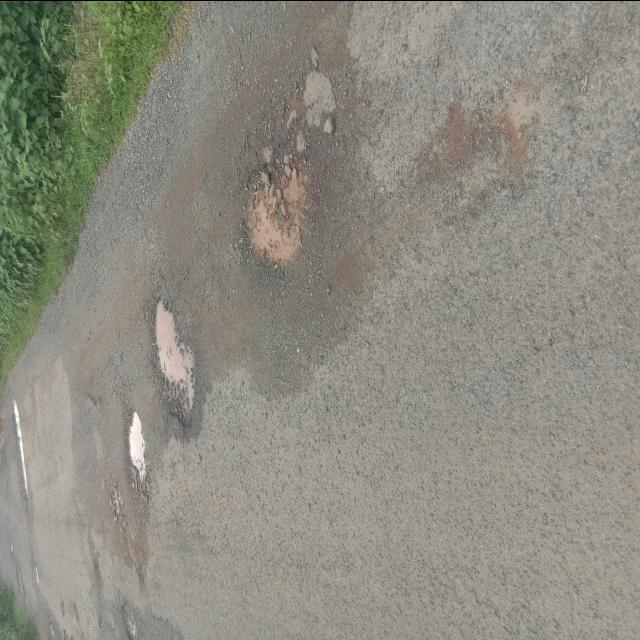potholes: (233, 140, 320, 276), (152, 290, 202, 428), (11, 389, 35, 503), (124, 398, 150, 494)
